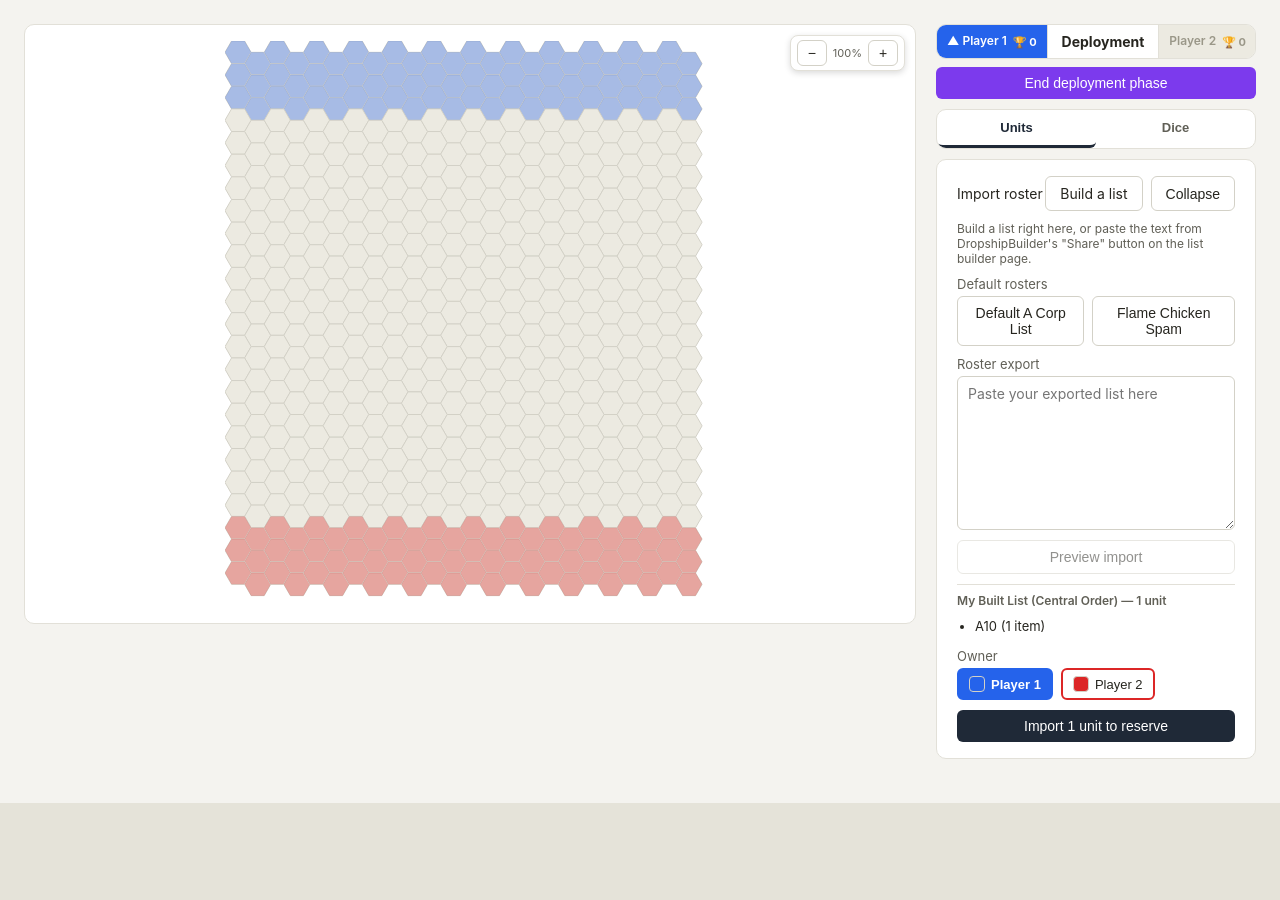
Test case: BattlePage › picks up a list handed off from the in-app builder, same as a pasted export (#188)
The image size is (1280, 900).
expect the text "My Built List (Central Order) — 1 unit" is shown: met, box [957,593,1166,608]
Click the button "Import 1 unit to reserve": click(1096, 726) [957,710,1235,742]
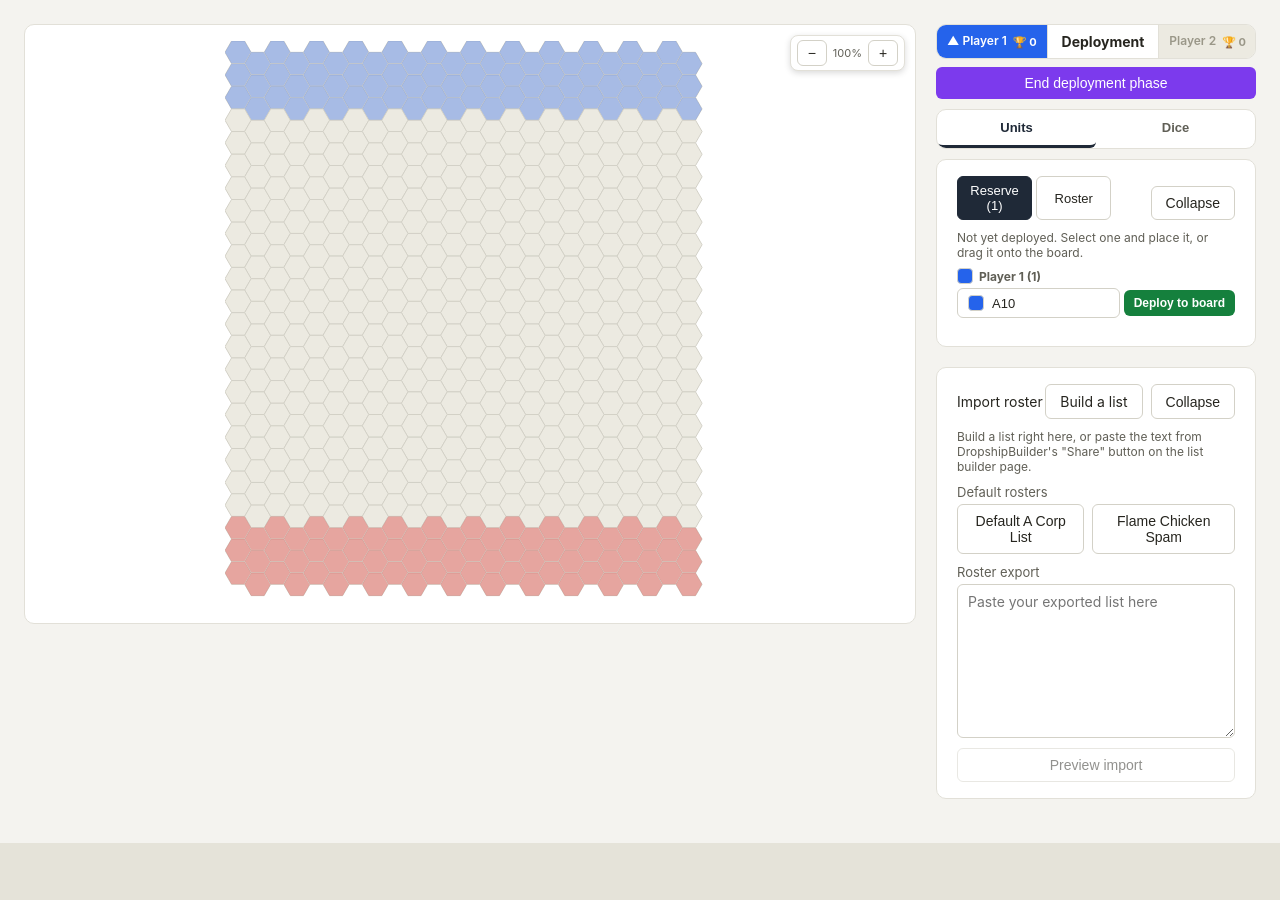
expect the button "Reserve (1)" is shown: met, box [957,176,1032,220]
